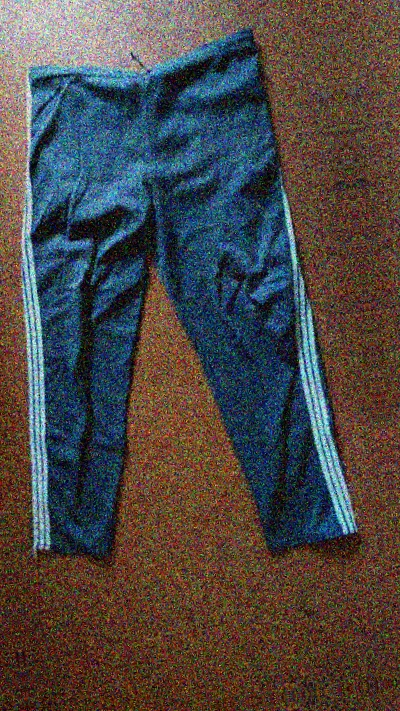Pants: (0, 4, 375, 592), (351, 0, 400, 540)
